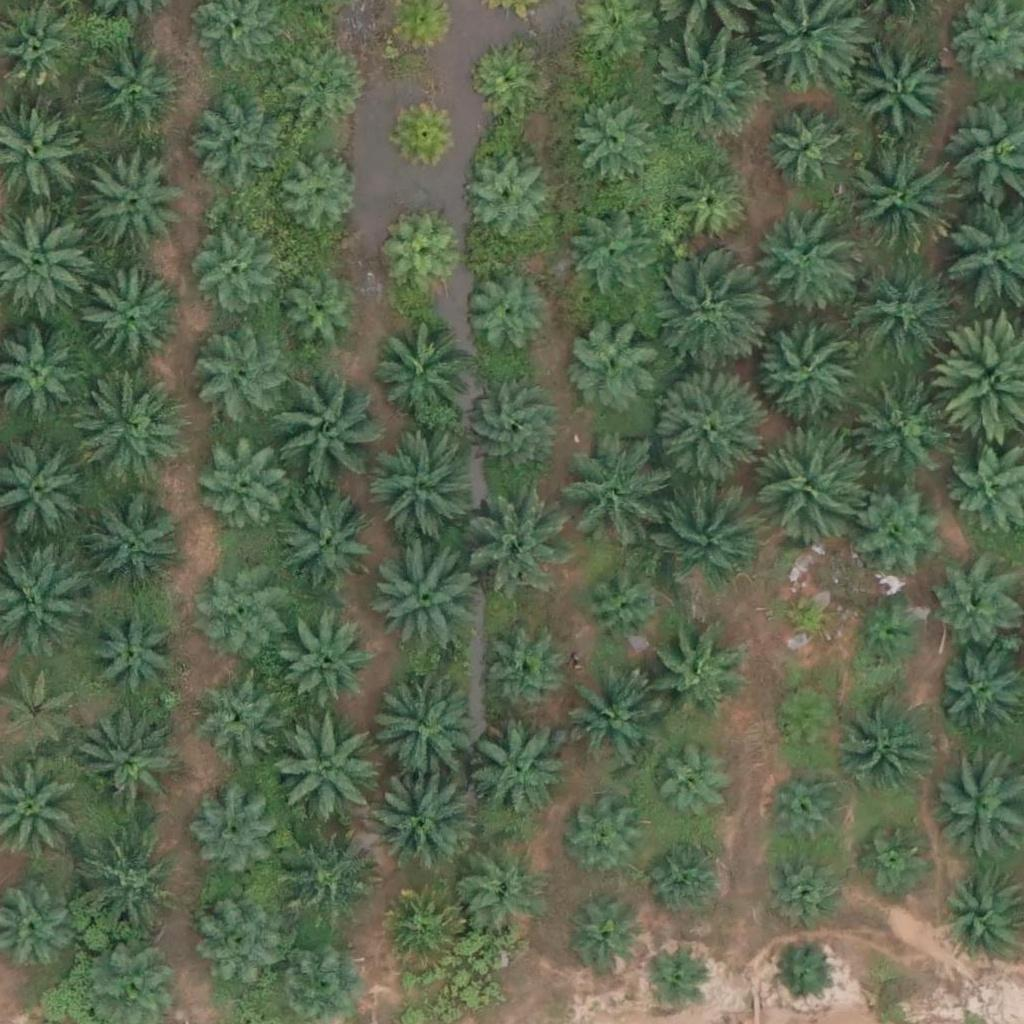Kelapa_Sawit: (363, 538, 476, 652), (841, 143, 954, 256), (845, 255, 958, 368), (752, 310, 865, 423), (649, 371, 762, 484), (368, 765, 481, 878), (360, 669, 473, 782), (72, 268, 185, 381), (73, 377, 186, 490), (656, 28, 769, 141), (649, 473, 761, 587), (366, 434, 478, 548), (268, 711, 380, 825), (745, 211, 857, 324), (750, 428, 862, 541), (647, 262, 759, 375), (460, 479, 572, 592), (264, 373, 376, 486), (68, 834, 180, 947), (849, 376, 949, 477), (851, 477, 951, 578), (643, 625, 743, 726), (557, 674, 657, 775), (557, 446, 657, 547), (467, 722, 567, 823), (370, 322, 470, 423), (273, 490, 373, 591), (275, 827, 375, 928), (194, 327, 294, 428), (83, 147, 183, 248), (77, 720, 177, 821), (852, 40, 952, 141), (83, 39, 183, 140), (190, 91, 290, 192), (842, 691, 942, 792), (564, 312, 664, 412), (462, 380, 562, 480), (84, 495, 183, 596), (931, 564, 1019, 652), (756, 847, 844, 935), (375, 885, 463, 973), (664, 161, 752, 249), (578, 563, 666, 651), (459, 154, 547, 242), (285, 623, 373, 711), (187, 791, 275, 879), (185, 226, 273, 314), (281, 52, 369, 140), (764, 106, 852, 194), (934, 651, 1021, 740), (564, 211, 651, 300), (198, 898, 285, 987), (766, 766, 853, 854), (461, 270, 548, 358), (483, 632, 570, 720), (460, 852, 547, 940), (277, 150, 364, 238), (274, 274, 361, 362), (188, 669, 275, 757), (197, 557, 284, 645), (200, 442, 287, 530), (91, 608, 178, 696), (571, 94, 658, 182), (466, 40, 541, 116), (649, 749, 724, 825), (651, 837, 726, 913), (850, 597, 925, 673), (769, 684, 844, 760), (383, 220, 458, 296), (388, 93, 463, 169), (857, 819, 932, 894), (569, 804, 644, 879), (567, 904, 642, 979), (640, 945, 703, 1008), (773, 941, 835, 1004), (776, 585, 838, 648)
